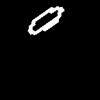chain: (28, 7, 63, 34)
